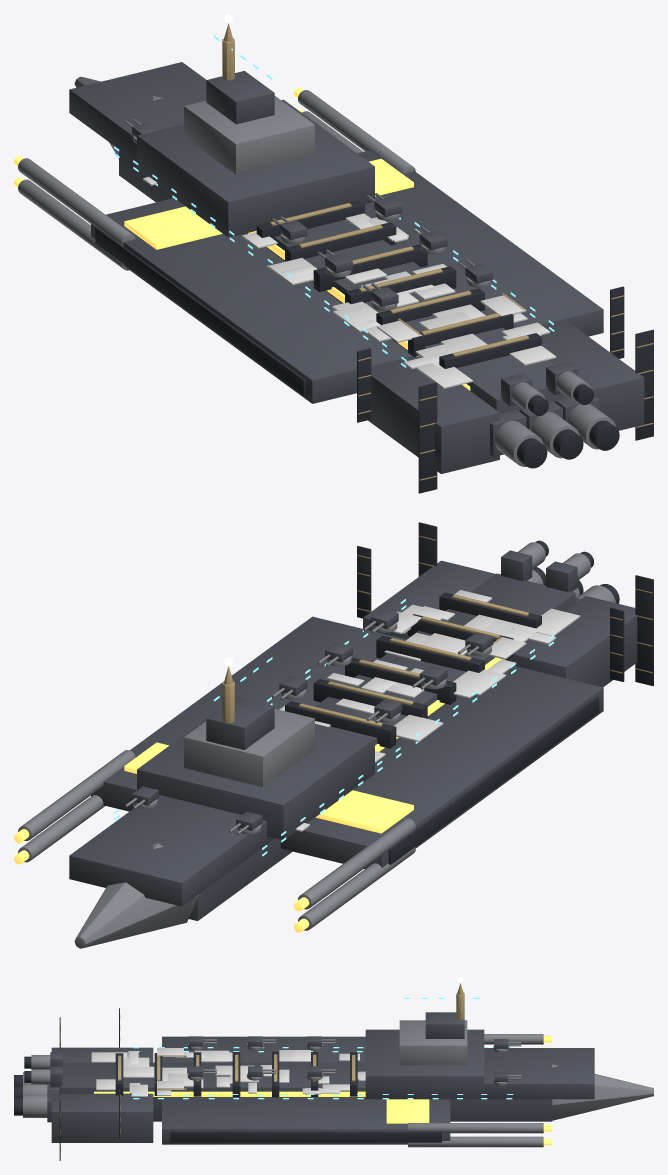
The model's file is dreadnought.glb.
3 renders of one model, top to bottom at view 1: azimuth 30°, elevation 25°; view 2: azimuth 150°, elevation 25°; view 3: azimuth 270°, elevation 25°, orthographic. The views are drawn at different scales.
Visible parts, largest first — view 1: dreadnought; view 2: dreadnought; view 3: dreadnought.
Boxes of the visible parts, x1=… form: dreadnought: x1=14, y1=14, x2=653, y2=493; dreadnought: x1=14, y1=522, x2=653, y2=948; dreadnought: x1=14, y1=977, x2=653, y2=1160.
Bounding box in the file's own units: 26.2 × 19.04 × 75.44.
